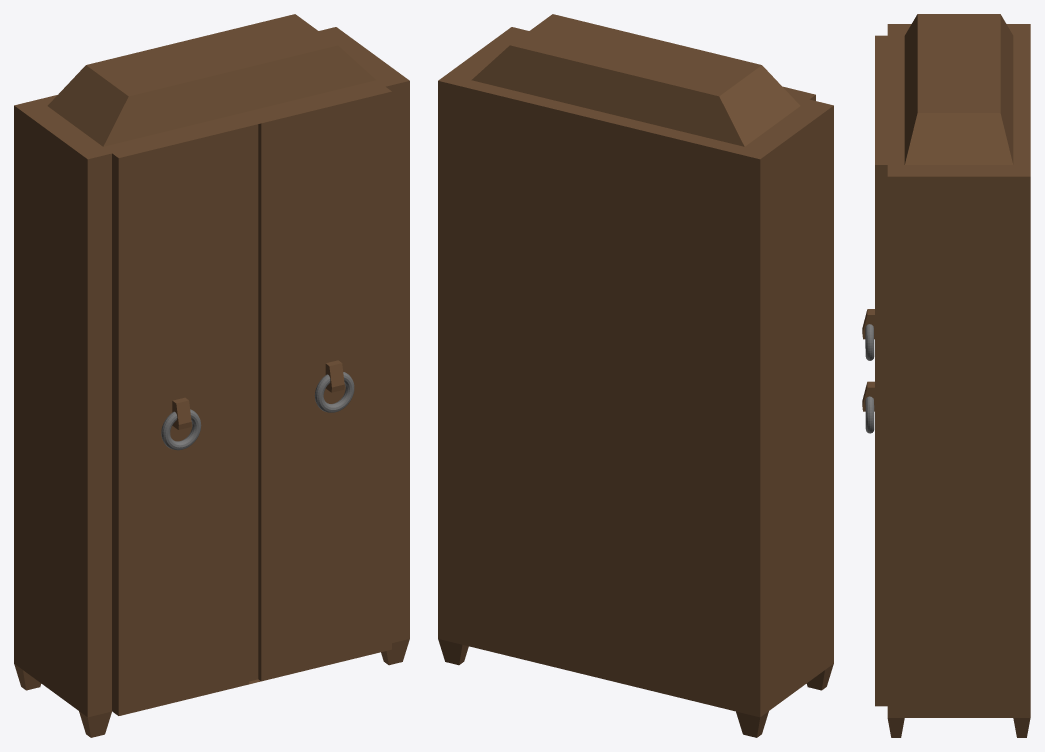
File: Wardrobe.fbx
3 views of the same model, side by side, from view 1: azimuth 30°, elevation 25°; view 2: azimuth 150°, elevation 25°; view 3: azimuth 270°, elevation 25° (orthographic). The views are drawn at different scales.
Visible parts, largest first — view 1: Cube; view 2: Cube; view 3: Cube.
Boxes of the visible parts, <box> form: Cube: <box>14,14,409,737</box>; Cube: <box>438,14,833,737</box>; Cube: <box>862,14,1030,737</box>.
Bounding box in the file's own units: 505 × 927 × 235.
